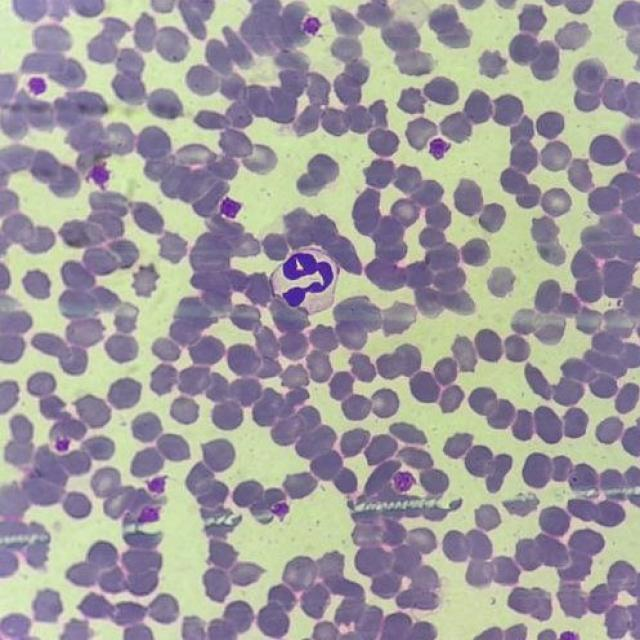Neutrofilo: (265, 240, 343, 312)
